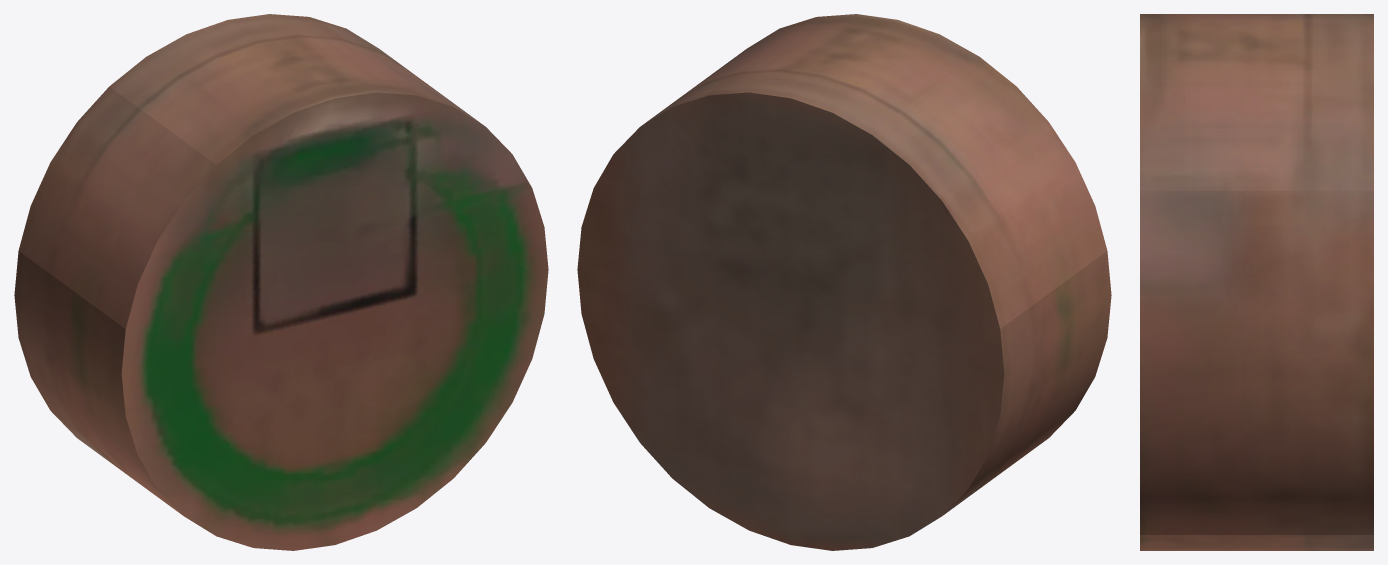
The model's file is base_frame__barrel_collar.glb.
The picture shows the model from 3 angles, left to right: view 1: azimuth 30°, elevation 25°; view 2: azimuth 150°, elevation 25°; view 3: azimuth 270°, elevation 25°; orthographic projection. The views are drawn at different scales.
Visible parts, largest first — view 1: geometry_0; view 2: geometry_0; view 3: geometry_0.
Boxes of the visible parts, x1,y1,x2,y2 form: geometry_0: (14, 14, 548, 550); geometry_0: (577, 14, 1111, 550); geometry_0: (1140, 14, 1373, 550).
Size of the model in its own units: 0.092 by 0.092 by 0.04.
Materials: 1 (1 with a texture image).
